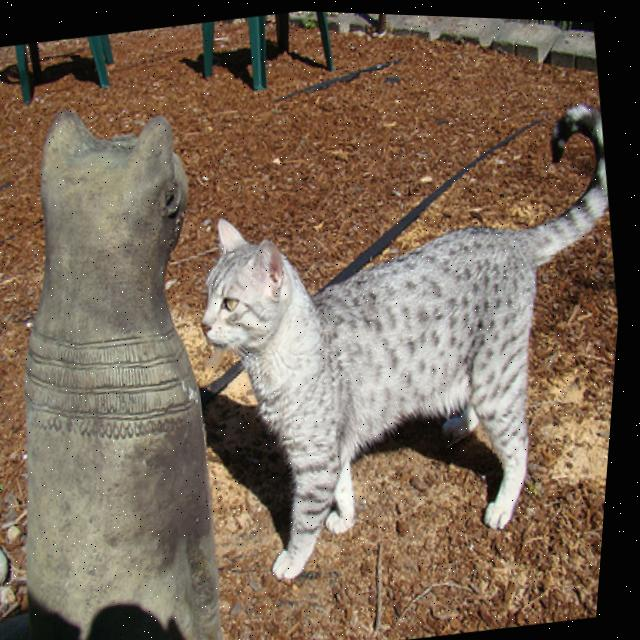Egyptian Mau: (159, 79, 636, 601)
